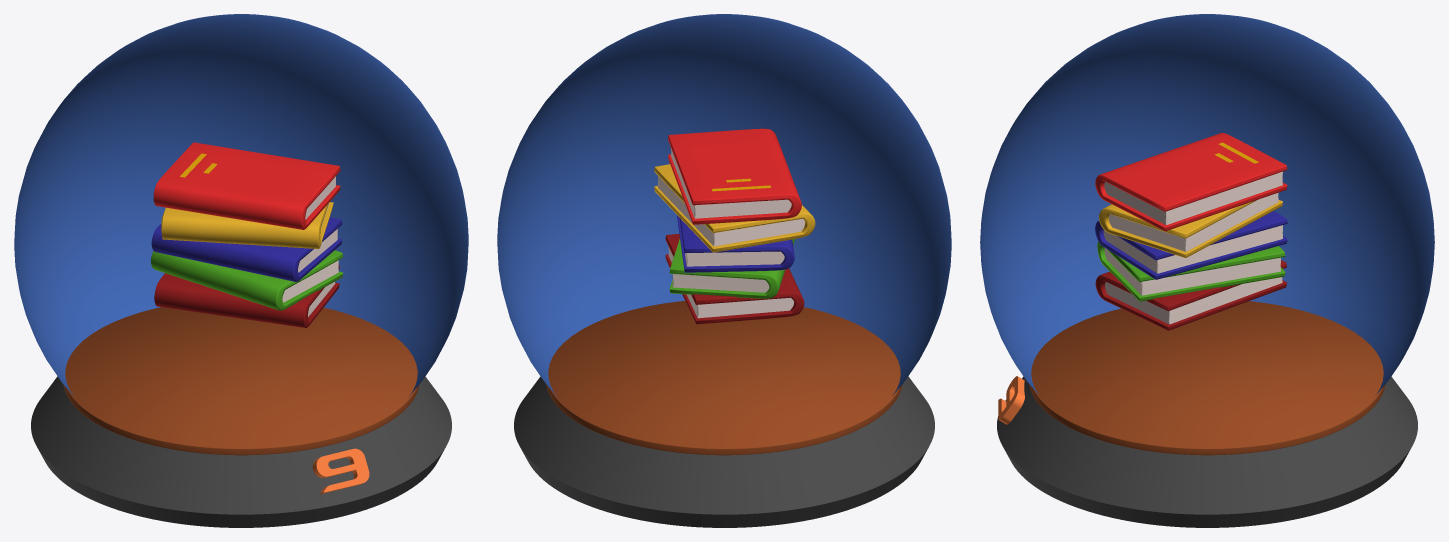
File: Curio_09.glb
The picture shows the model from 3 angles, left to right: view 1: azimuth 30°, elevation 25°; view 2: azimuth 150°, elevation 25°; view 3: azimuth 270°, elevation 25°; orthographic projection.
Visible parts, largest first — view 1: Sphere.032, Sphere.031, Sphere.030, Cube.027, Text.014; view 2: Sphere.032, Sphere.031, Sphere.030, Cube.027; view 3: Sphere.032, Sphere.031, Sphere.030, Cube.027, Text.014.
Part boxes in pixels (x1,y1,x2,y2): Sphere.032: (14, 14, 468, 397); Sphere.031: (63, 307, 419, 455); Sphere.030: (31, 376, 451, 527); Cube.027: (151, 142, 343, 327); Text.014: (312, 448, 369, 494); Sphere.032: (497, 14, 951, 397); Sphere.031: (546, 301, 902, 455); Sphere.030: (514, 376, 934, 527); Cube.027: (654, 128, 815, 324); Sphere.032: (980, 14, 1434, 395); Sphere.031: (1029, 301, 1385, 455); Sphere.030: (997, 376, 1417, 527); Cube.027: (1095, 133, 1287, 330); Text.014: (998, 376, 1024, 424).
Bounding box in the file's own units: 4.66 × 4.62 × 4.66.
